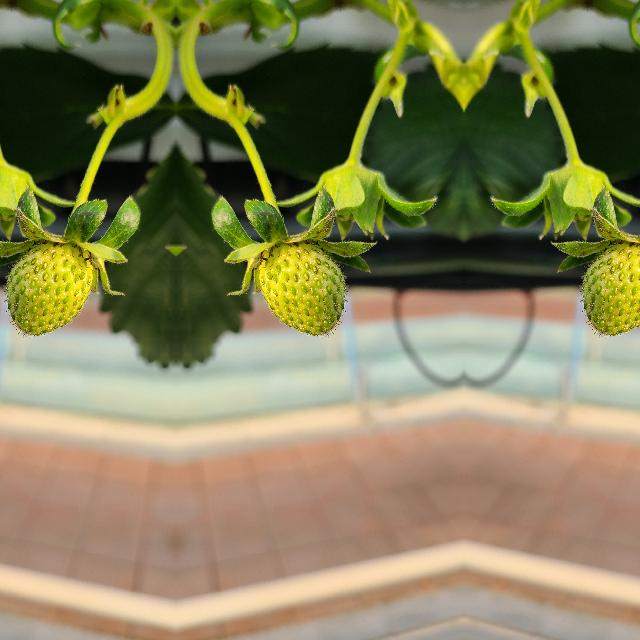Health_25: (258, 244, 344, 334), (7, 244, 92, 334), (582, 244, 640, 334)
